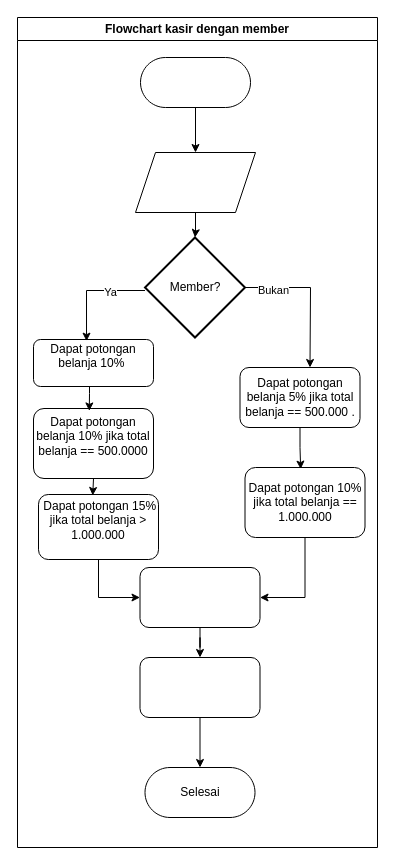
Image size: 395x865. Some labels were removed from this diagram. The centre of each missing label's shape, as x and y in pixels:
Hitung total belanja: the point at 199,597
Masukkan Total belanja & member (jika ada): the point at 195,182
Mulai: the point at 195,82
Tampilkan Total Belanja: the point at 199,687
